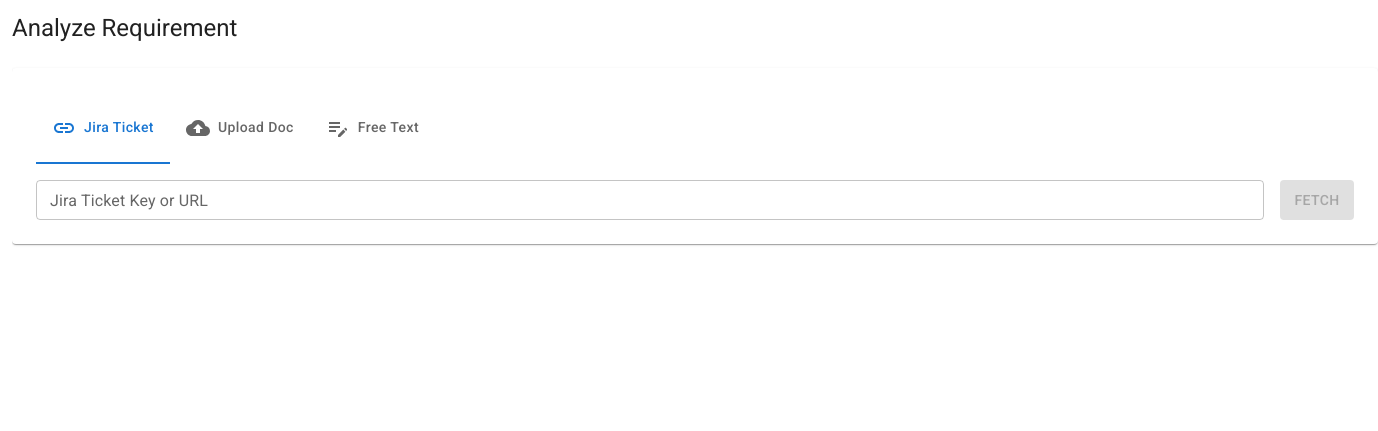
RequirementIntakePage › submits free text and shows review screen
The image size is (1378, 431).
Click the tab "Free Text" at (372, 128), box [310, 92, 435, 164]
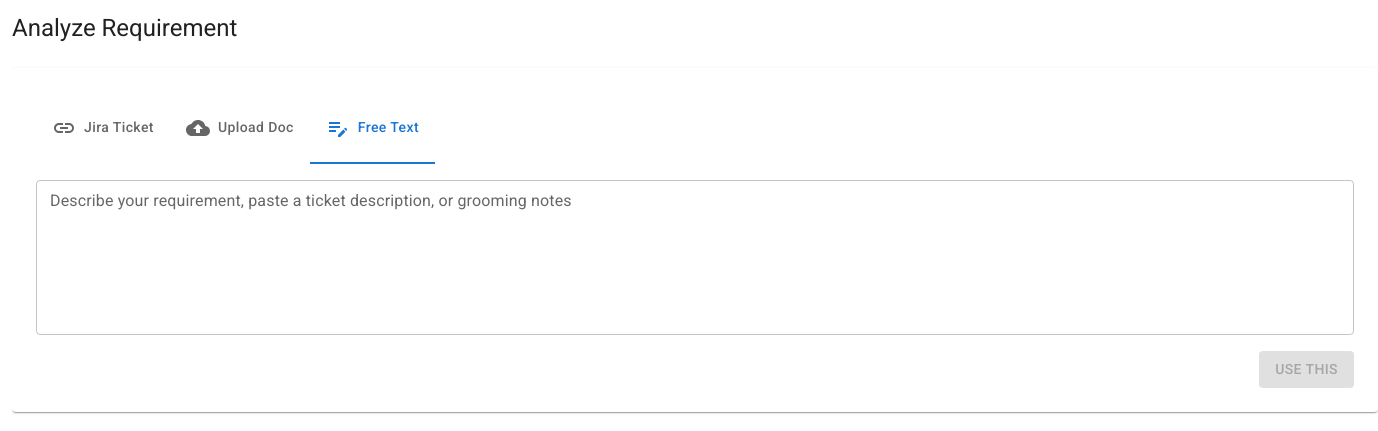
Type "Add rate limiting to the validation endpoint" into the text box labelled "Describe your requirement" at (695, 258), box [50, 188, 1340, 326]
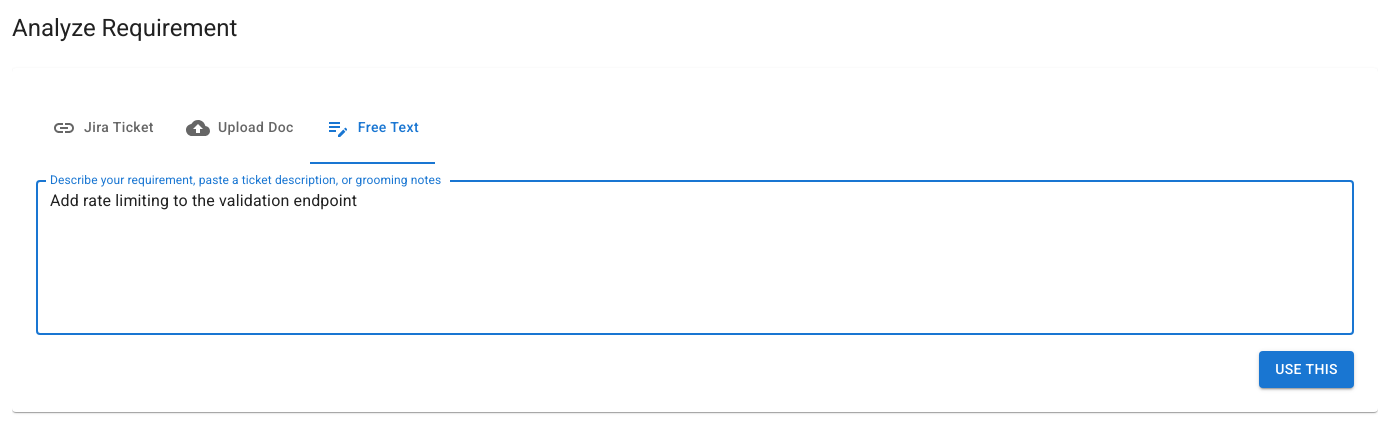
Click the button "Use This" at (1307, 369), box [1259, 351, 1354, 388]
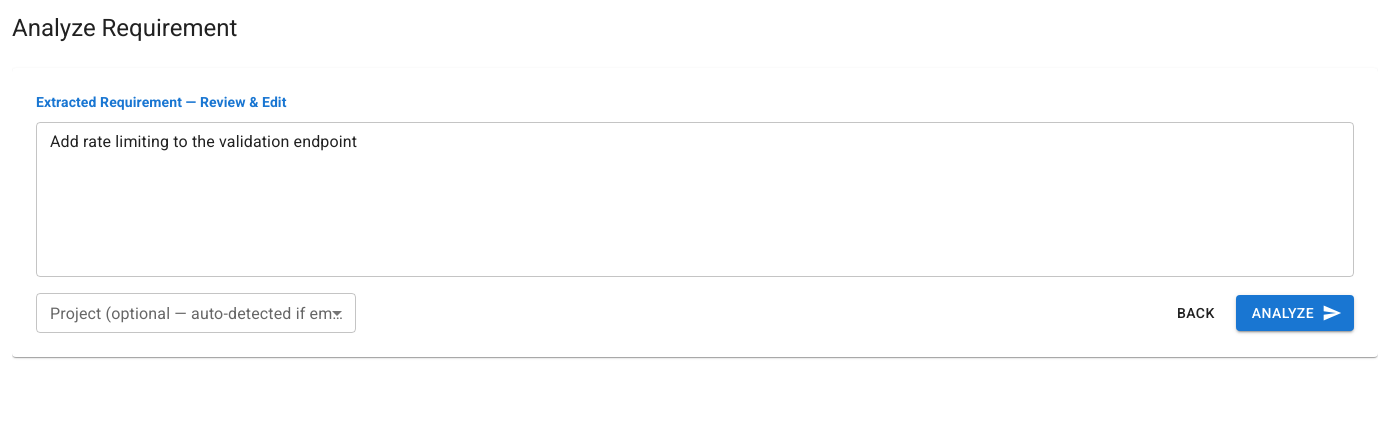
Now the heading "Extracted Requirement — Review & Edit" is shown, box [36, 94, 286, 110]
